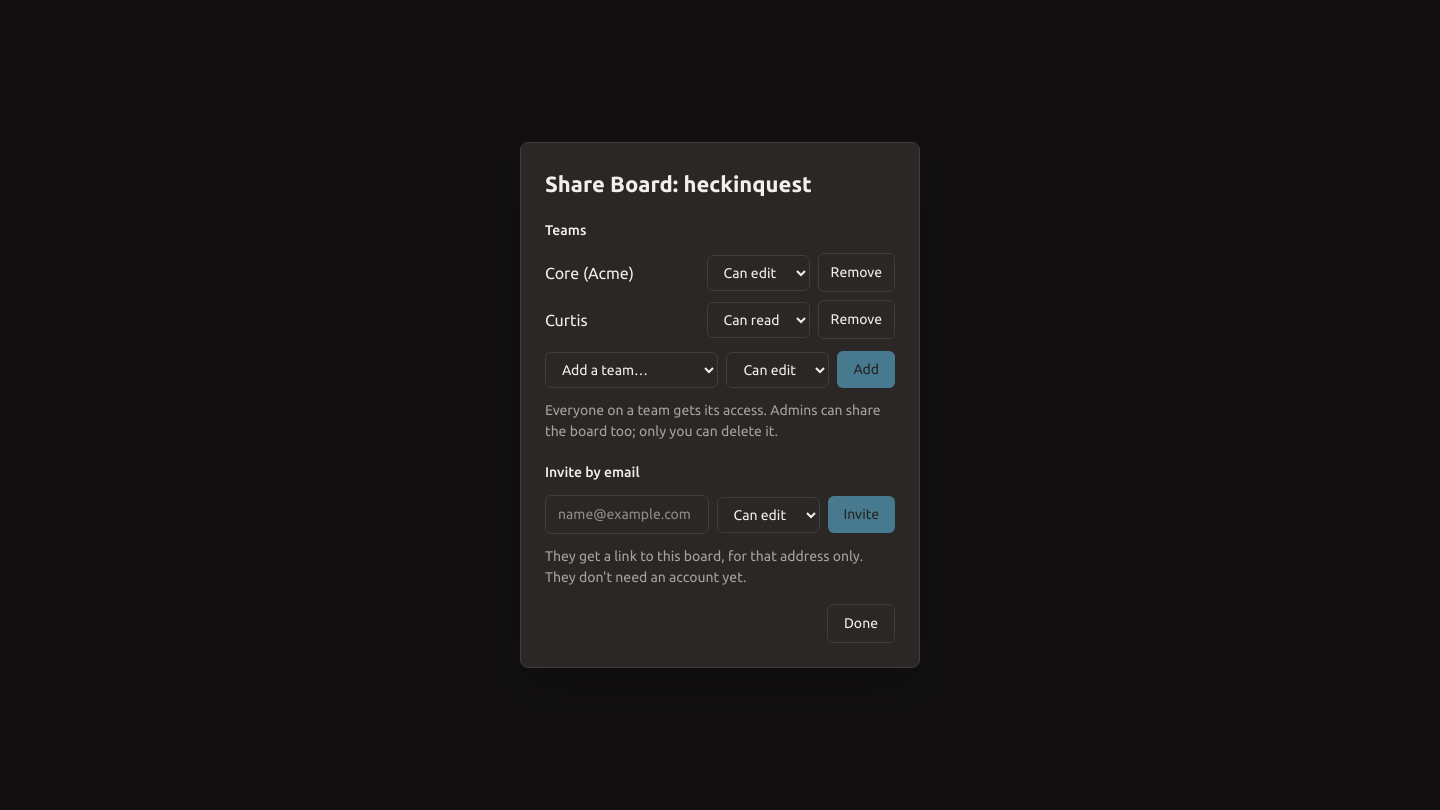
Test: ShareModal invites › hands over the link when the server sends no mail
In the field named "Email to invite": (627, 514) [545,495,708,534], type "c@example.com"
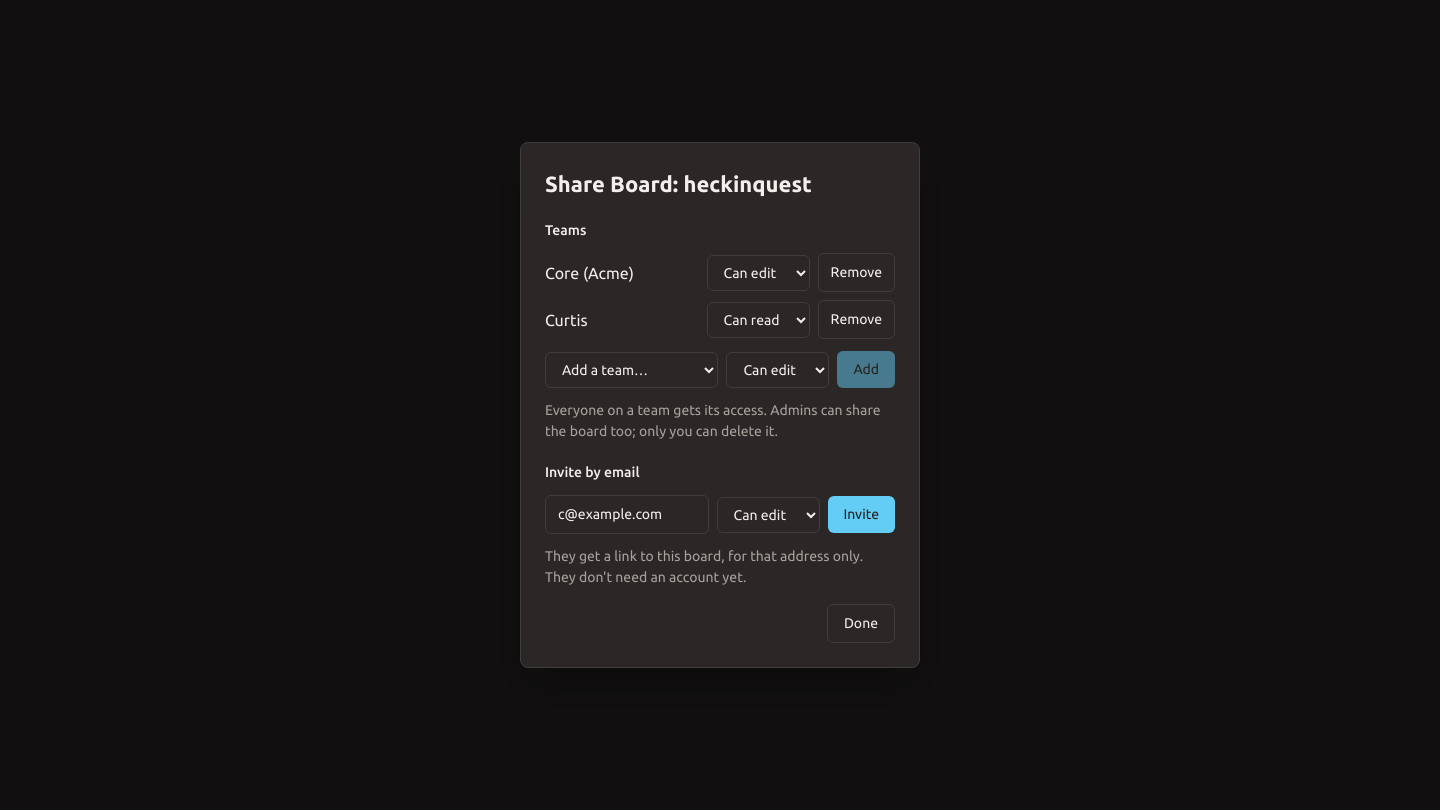
Click the button "Invite": (861, 514) [828,496,895,533]
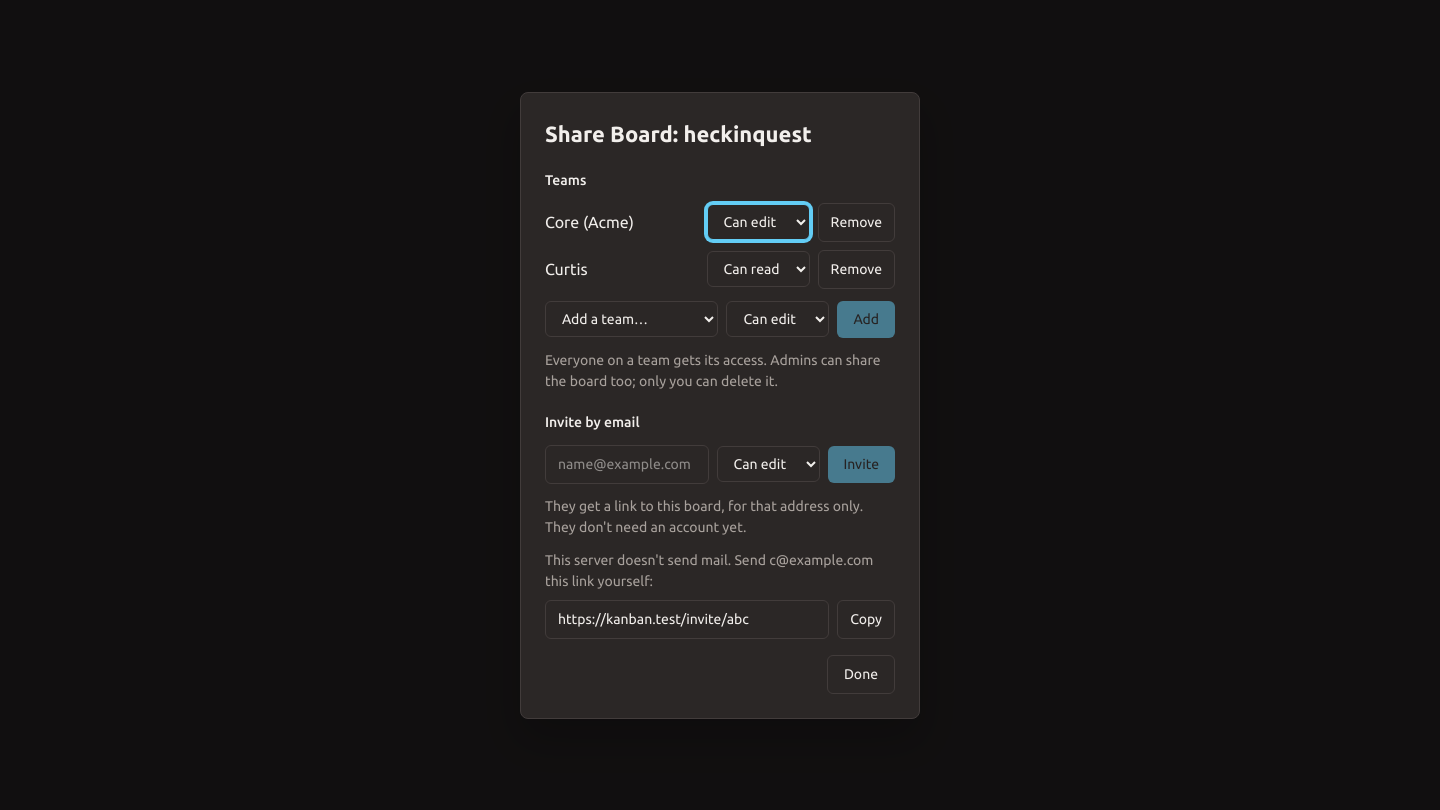
Expected: the field named "Invitation link" holds "https://kanban.test/invite/abc", [545,600,829,638]
